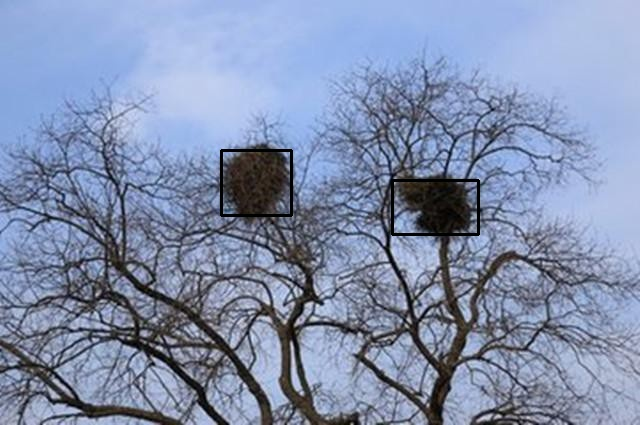bird-nest: (392, 180, 478, 234), (221, 150, 291, 215)
